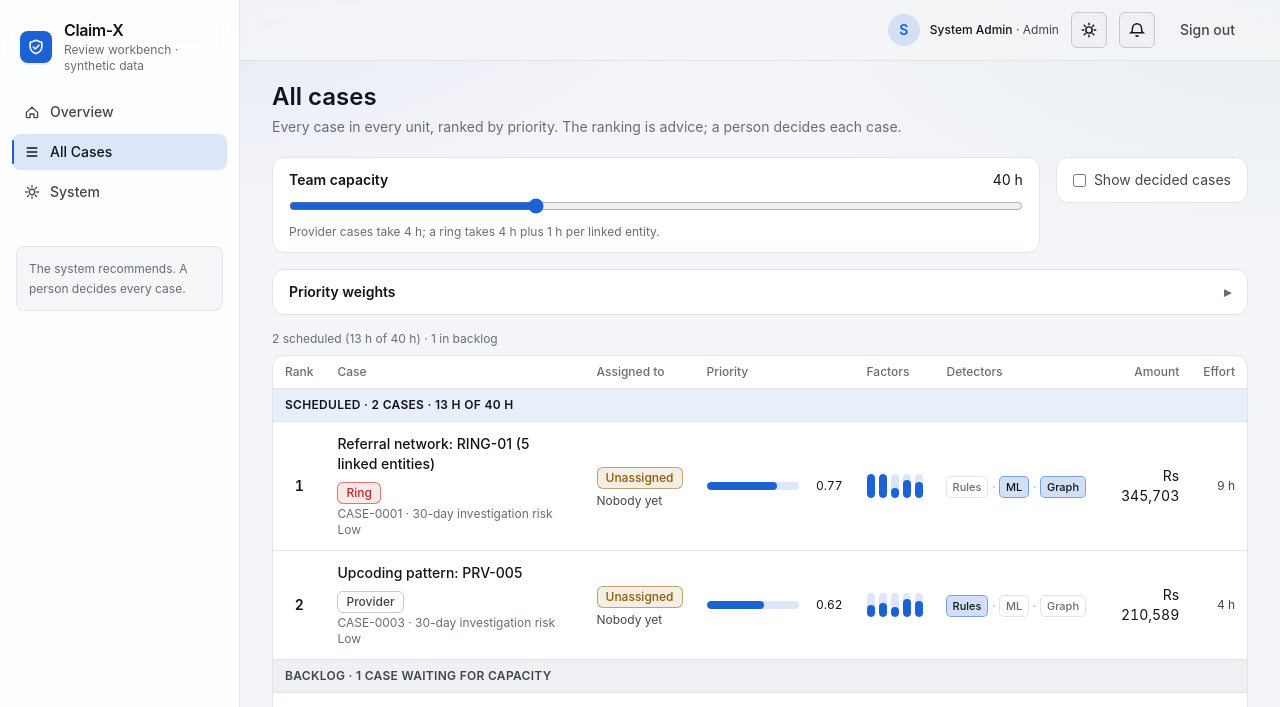
Queue page › re-schedules when the capacity slider moves (after a short pause)
Set the slider named "Team capacity in hours" to "20" at (417, 206), box [289,198,1023,214]
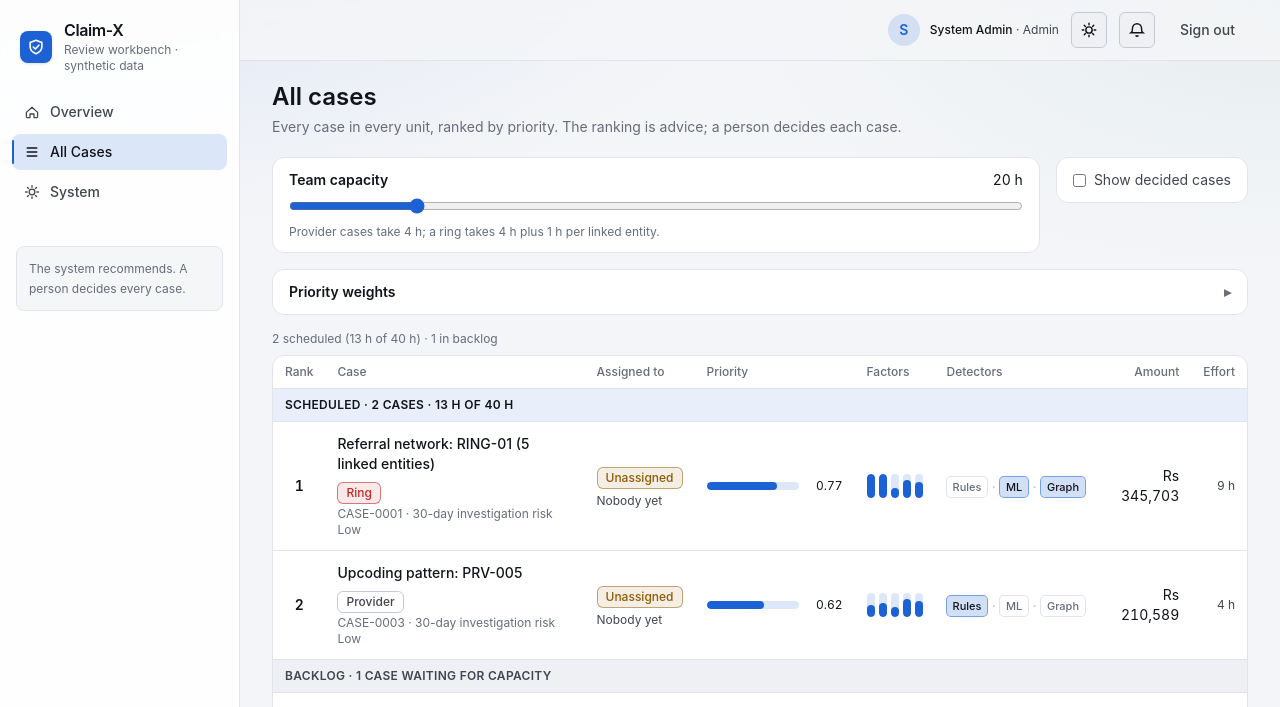
Result: the text with test id "capacity-value" reads "20 h" at [993,171,1023,188]
